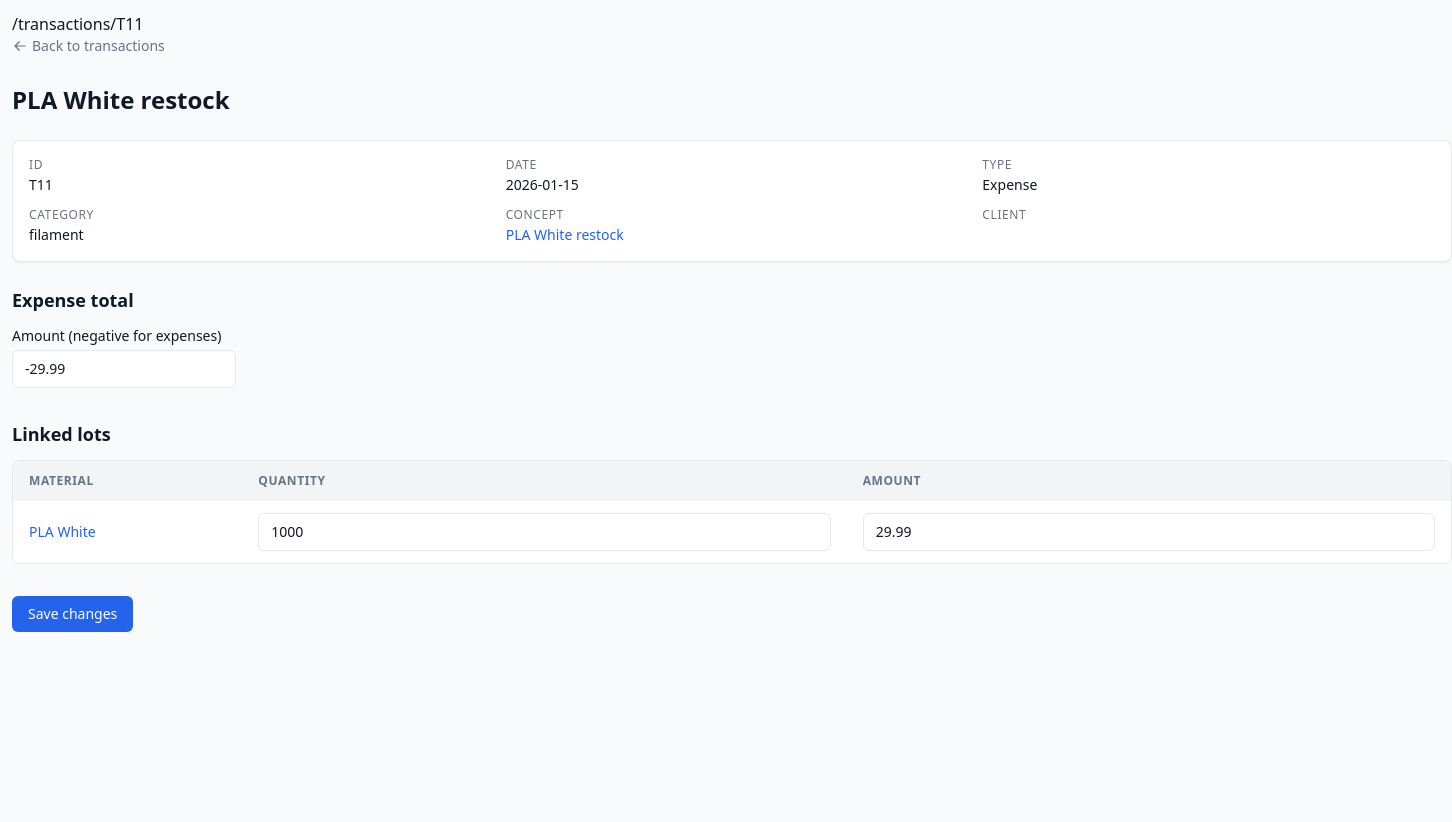
Test: ExpenseTransactionDetailPage › saving › reports a blank lot quantity as unsaveable
Clear the number field with test id "expense-detail-lot-quantity-input-L1" at point(544, 532), box [258,513,831,551]
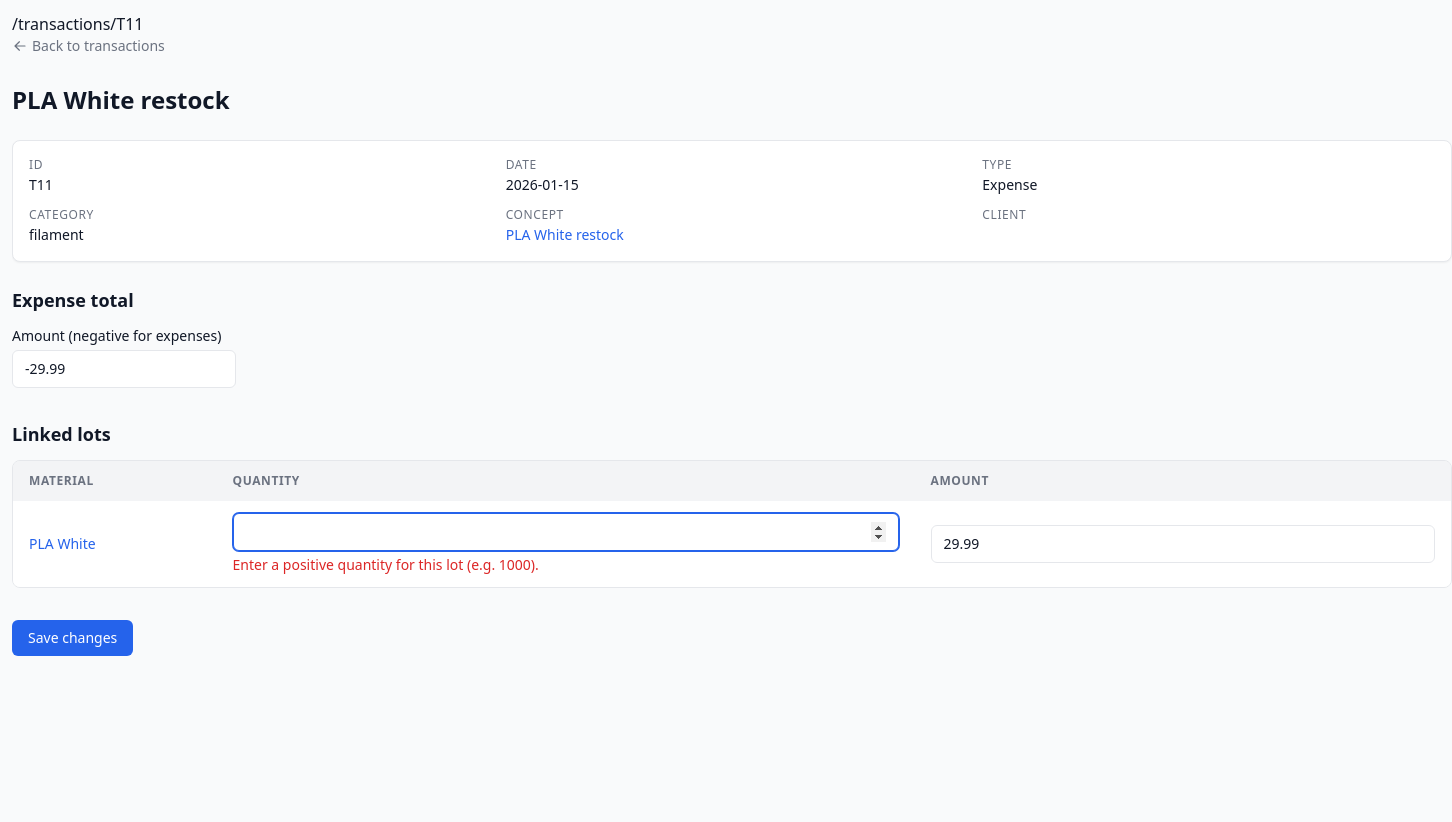
Click the button with test id "expense-detail-save-changes" at point(73, 638), box [12,620,133,656]
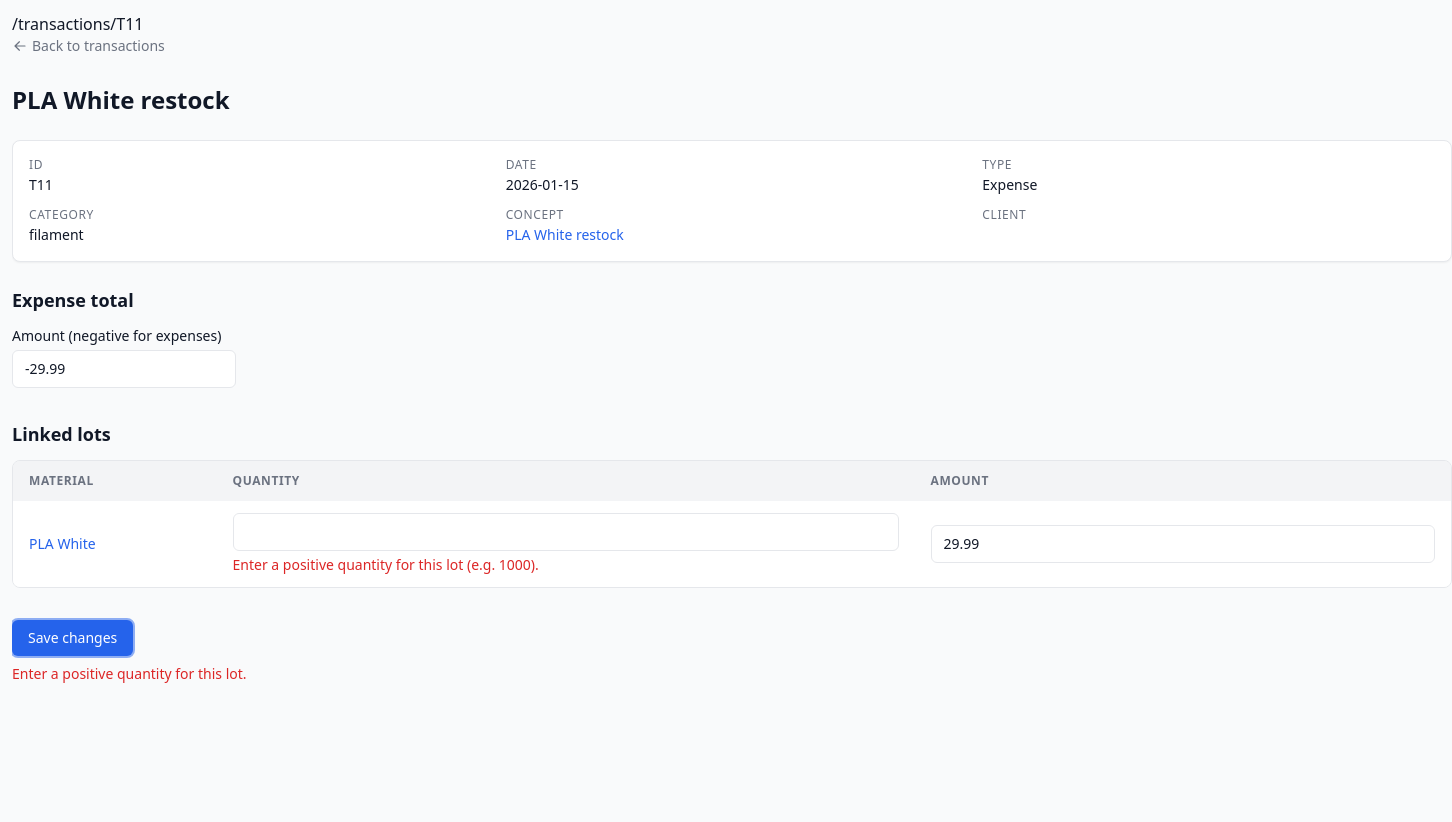
Check: the message "Enter a positive quantity for this lot." is shown, box [12,664,246,683]
